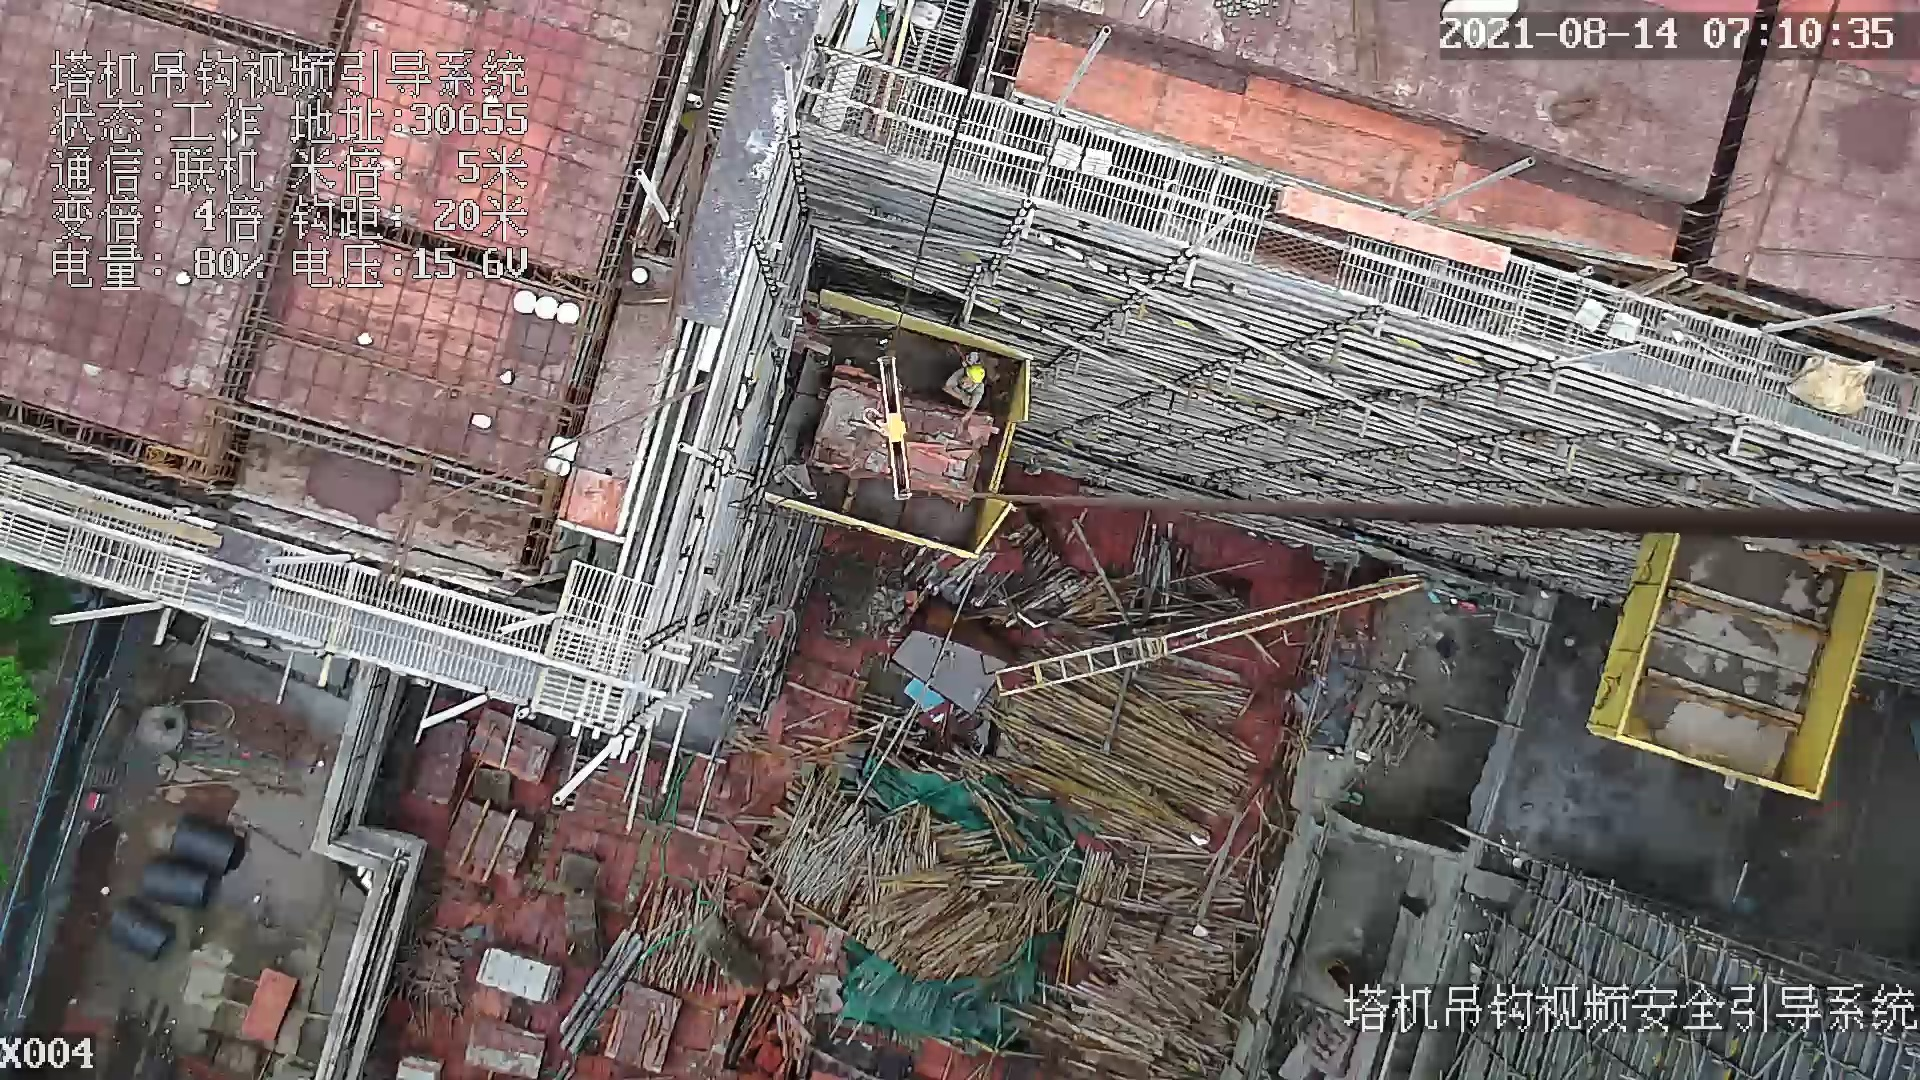helmet: (965, 365, 986, 384)
hook: (860, 349, 920, 500)
person: (953, 367, 990, 422)
